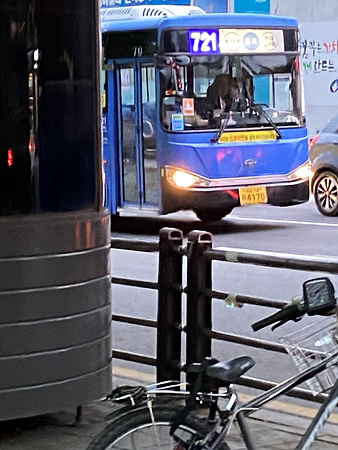entrance: (113, 60, 166, 212)
